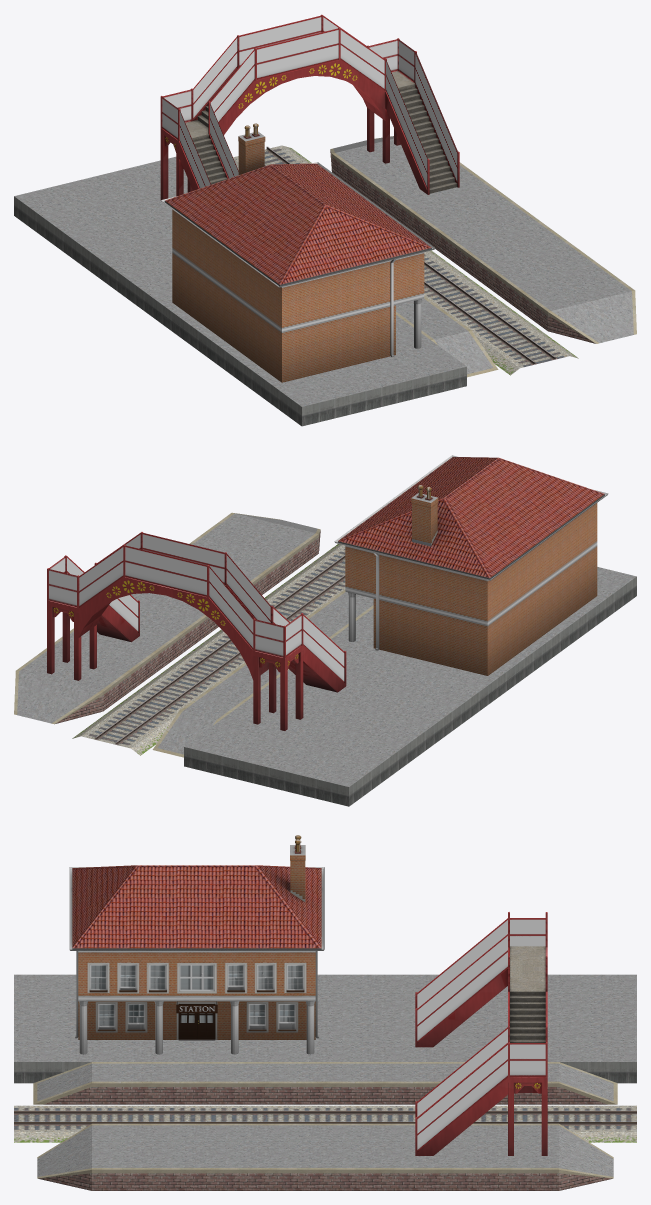
Rendered from Station1.fbx.
The picture shows the model from 3 angles, top to bottom: view 1: azimuth 30°, elevation 25°; view 2: azimuth 150°, elevation 25°; view 3: azimuth 270°, elevation 25°; orthographic projection. The views are drawn at different scales.
Parts seen in each view (by area): view 1: U3DMesh; view 2: U3DMesh; view 3: U3DMesh.
Part boxes in pixels (x1,y1,x2,y2): U3DMesh: (14, 14, 636, 426); U3DMesh: (14, 455, 636, 806); U3DMesh: (14, 835, 636, 1190).
Bounding box in the file's own units: 23.7 × 11.38 × 32.
